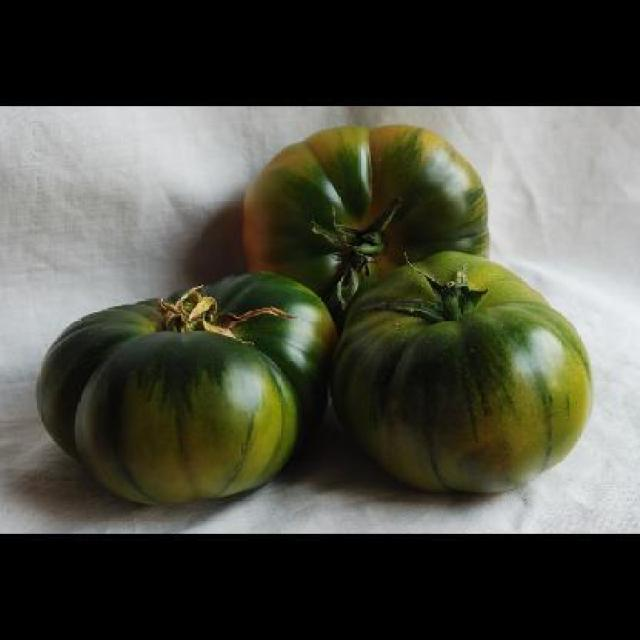Tomato: (35, 271, 338, 504), (330, 251, 592, 497), (242, 125, 490, 328)
